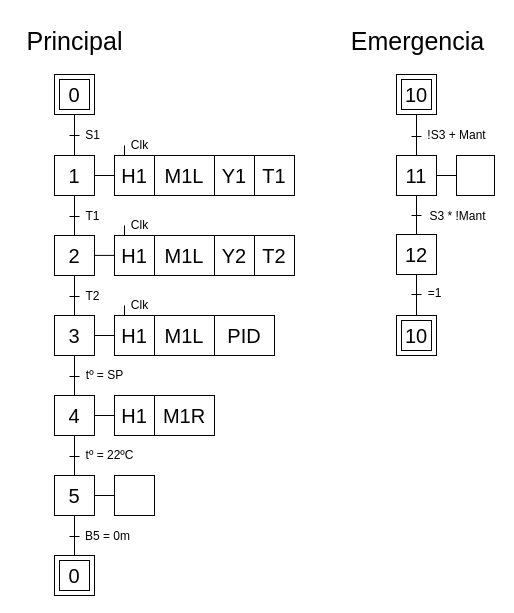
Some shapes in this 514 by 613 pixel diagram are drawn without their labels. Here are the shapes that lost their labels. From the top down, the centre of each, then its label:
At [475,175]: "H3".
At [134,495]: "Y3".
